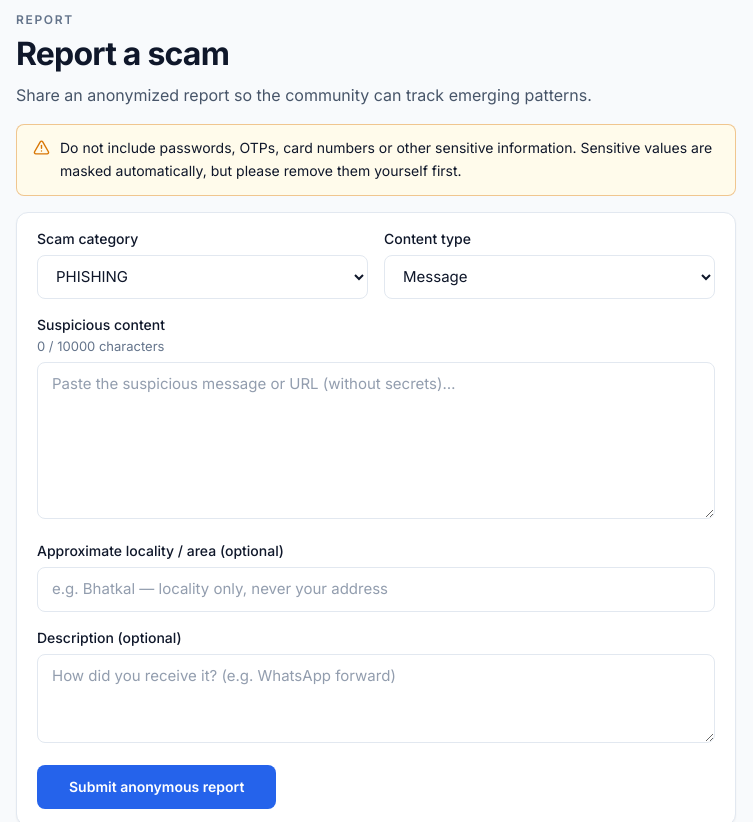
Test: report flow › successful submission shows thank-you state
Type "Your account will be blocked." into the text box labelled "Suspicious content" at (376, 440), box [37, 362, 715, 519]
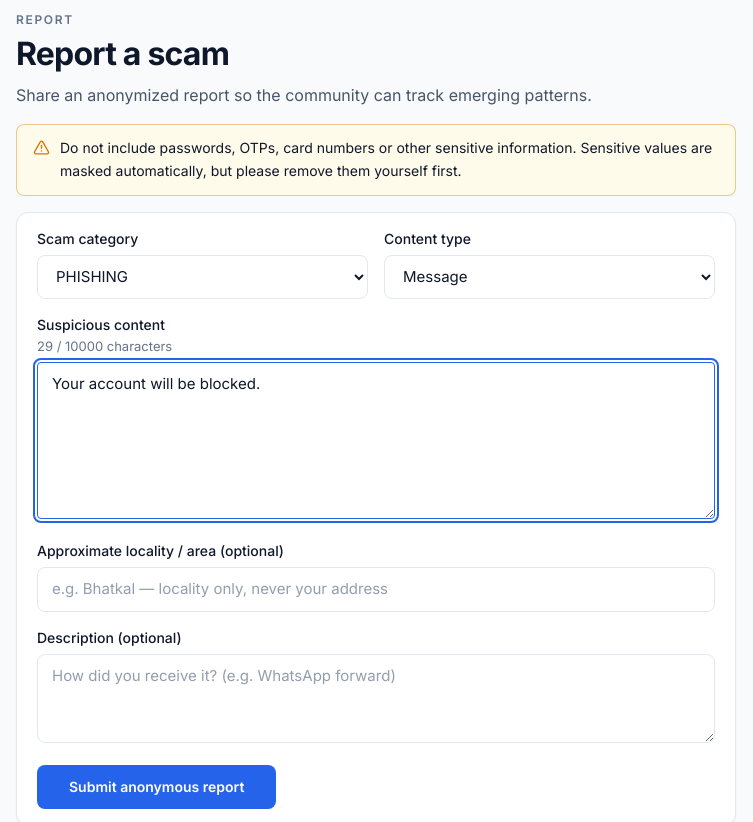
Click the button "Submit anonymous report" at (157, 787), box [37, 765, 276, 809]
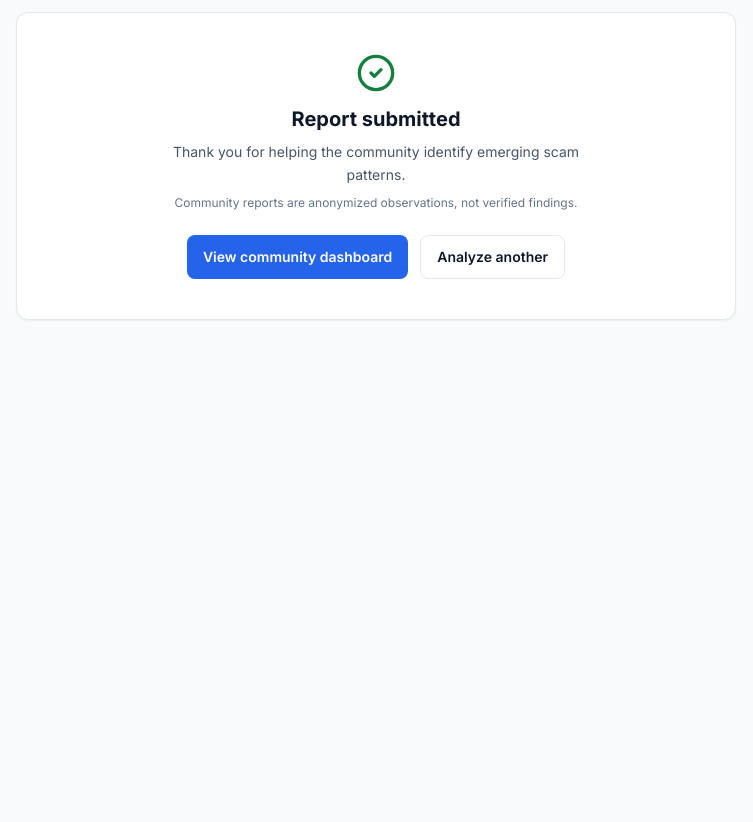
Now the text "Thank you for helping the community" is shown, box [173, 143, 579, 183]
